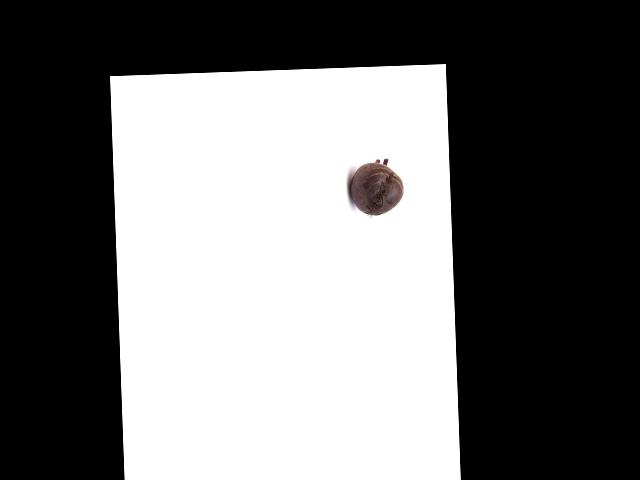beet: (348, 159, 404, 216)
